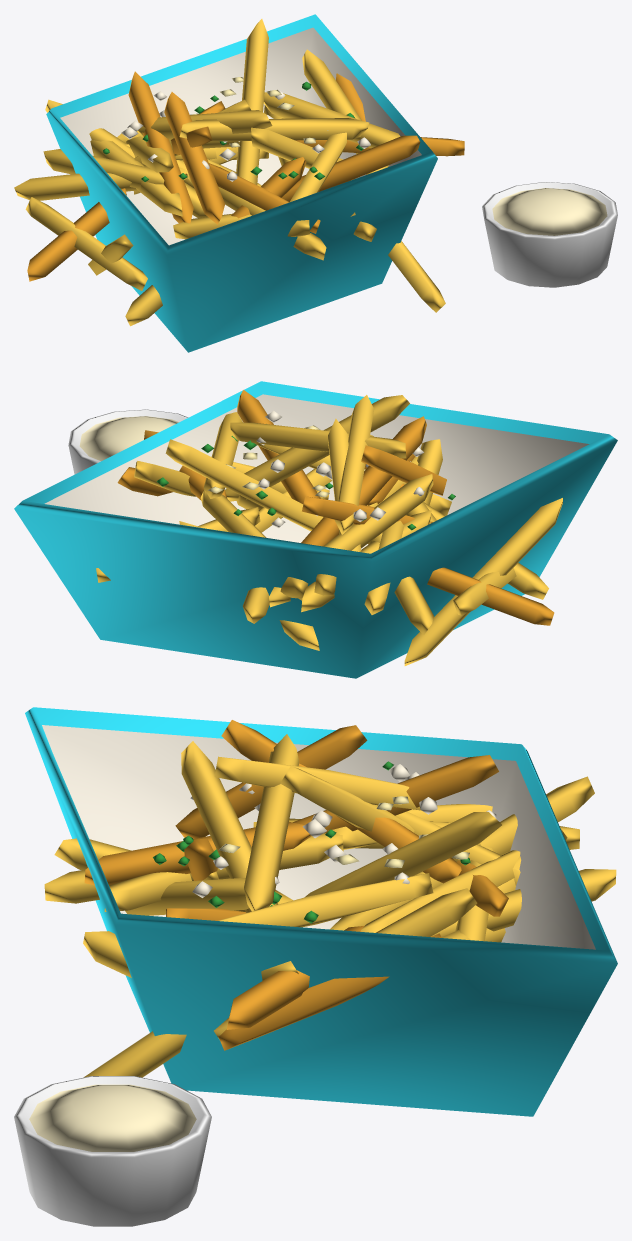
3 views of the same model, one above another, from view 1: azimuth 30°, elevation 25°; view 2: azimuth 150°, elevation 25°; view 3: azimuth 270°, elevation 25° (orthographic). The views are drawn at different scales.
Visible parts, largest first — view 1: fries (×27), boat, boat_inner, cup, aioli; view 2: boat, fries (×30), boat_inner, aioli, cup; view 3: boat, fries (×28), boat_inner, cup, aioli.
Part boxes in pixels (x1=…): fries (×27): x1=14, y1=19, x2=464, y2=326; boat: x1=46, y1=14, x2=437, y2=352; boat_inner: x1=60, y1=27, x2=421, y2=245; cup: x1=482, y1=182, x2=617, y2=287; aioli: x1=492, y1=188, x2=607, y2=235; boat: x1=14, y1=381, x2=617, y2=678; fries (×30): x1=96, y1=390, x2=562, y2=665; boat_inner: x1=44, y1=394, x2=589, y2=549; aioli: x1=79, y1=416, x2=178, y2=461; cup: x1=68, y1=409, x2=188, y2=474; boat: x1=25, y1=707, x2=617, y2=1116; fries (×28): x1=44, y1=720, x2=616, y2=1077; boat_inner: x1=42, y1=725, x2=595, y2=949; cup: x1=14, y1=1076, x2=211, y2=1226; aioli: x1=29, y1=1084, x2=196, y2=1151.
Bounding box in the file's own units: 0.1632 × 0.0595 × 0.1159.
